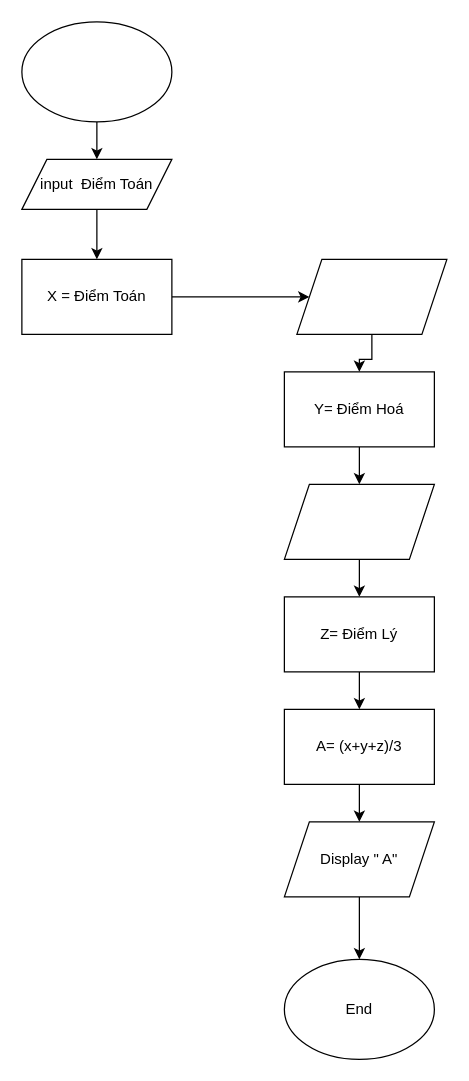
Some shapes in this 469 by 1081 pixel diagram are drawn without their labels. Each missing label, with the box of its shape:
Bắt đầu: (21, 21, 172, 122)
input Điểm Hoá: (296, 258, 447, 334)
input Điểm Lý: (283, 483, 434, 559)
